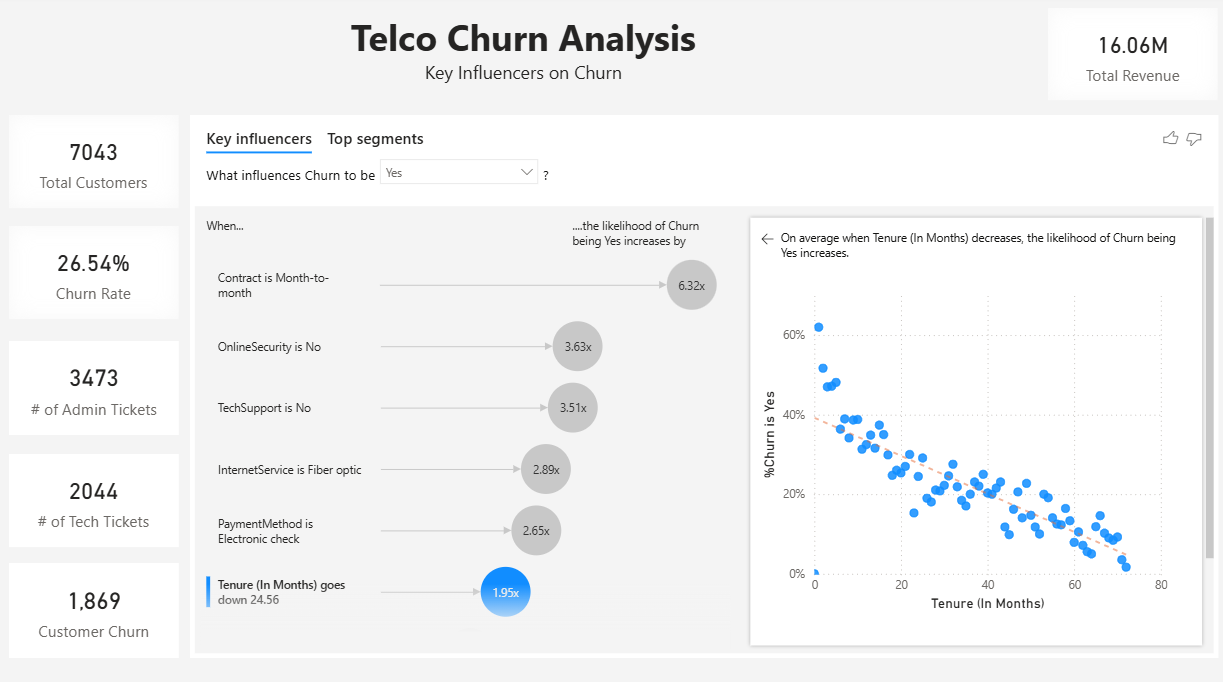

The page's visual inventory and layout, read from the dashboard file:
{"tool":"powerbi","page":{"name":"Key Influencers on Churn","canvas":[1280,720],"ordinal":4},"visuals":[{"type":"keyDriversVisual","fields":{"Target":["Telco Churn Dataset.Churn"],"ExplainBy":["Telco Churn Dataset.Tenure (In Months)","Telco Churn Dataset.Contract","Telco Churn Dataset.Average Tech Tickets","Telco Churn Dataset.OnlineSecurity","Telco Churn Dataset.TechSupport","Telco Churn Dataset.InternetService","Telco Churn Dataset.PaymentMethod"]},"box":[32.3,32.3,1217.5,664],"z":0}]}

Visuals, with their boxes in screenshot pixels (x1, y1, x2, y2), scaled from the page's 1280x720 canvas onto the 1223x682 screenshot:
keyDriversVisual - Telco Churn Dataset.Churn x Telco Churn Dataset.Tenure (In Months): <box>31,31,1194,660</box>
